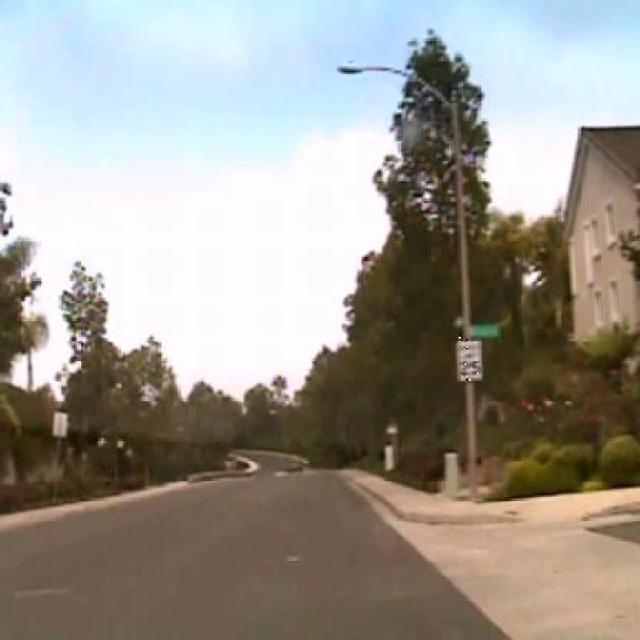speedLimit25: (455, 337, 483, 381)
